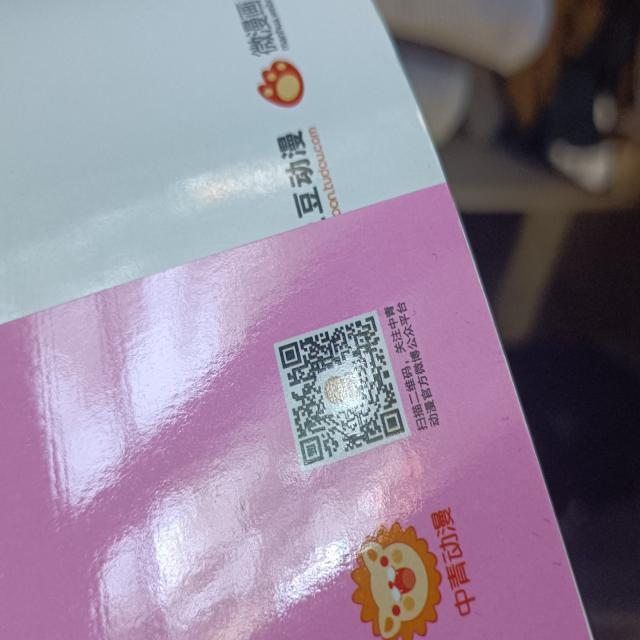qr_code: (277, 315, 406, 467)
